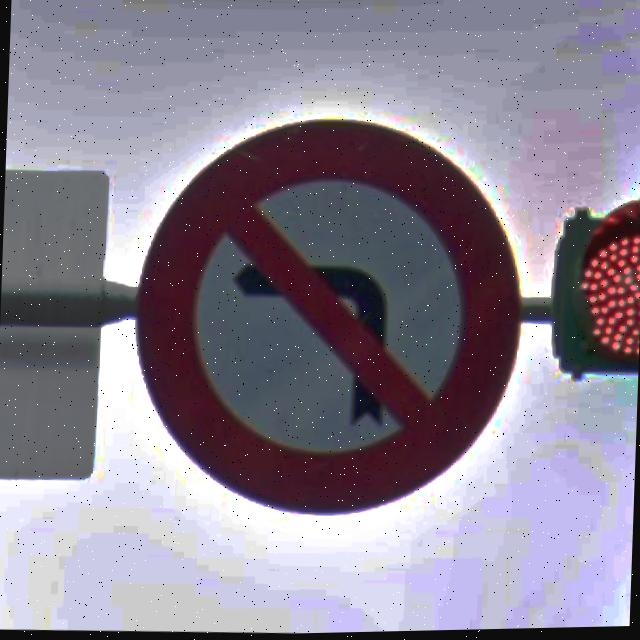noturnleft: (125, 107, 528, 525)
